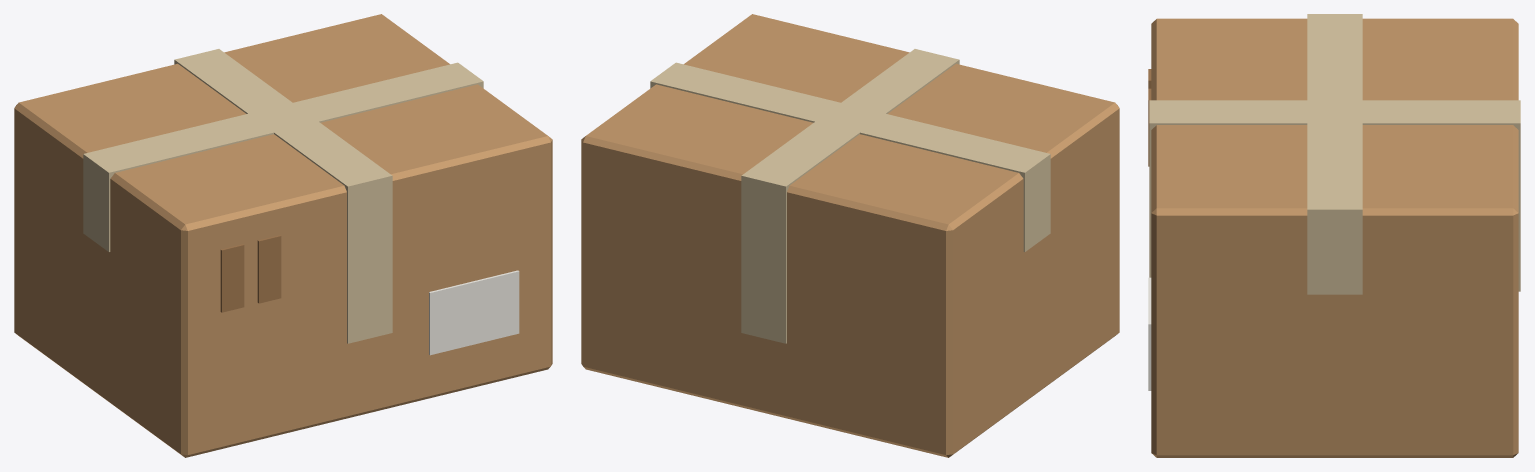
File: cardboard_box.glb
3 views of the same model, side by side, from view 1: azimuth 30°, elevation 25°; view 2: azimuth 150°, elevation 25°; view 3: azimuth 270°, elevation 25° (orthographic). The views are drawn at different scales.
Parts seen in each view (by area): view 1: cardboard_box; view 2: cardboard_box; view 3: cardboard_box.
Part boxes in pixels (left/top/right/bottom): cardboard_box: left=14, top=14, right=552, bottom=457; cardboard_box: left=581, top=14, right=1119, bottom=457; cardboard_box: left=1148, top=14, right=1520, bottom=457.
Bounding box in the file's own units: 0.504 × 0.302 × 0.405.
